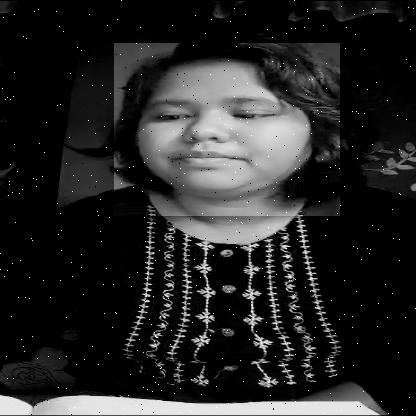Normal: (114, 43, 340, 216)
